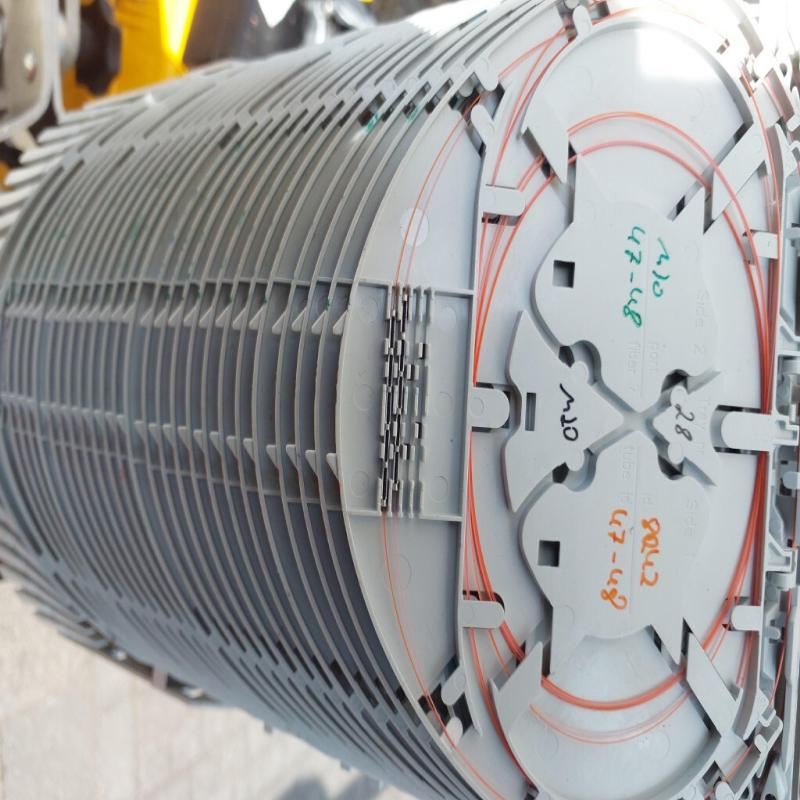NT-Muffen: (0, 0, 797, 800)
